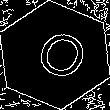O_SW: (22, 23, 88, 87)
